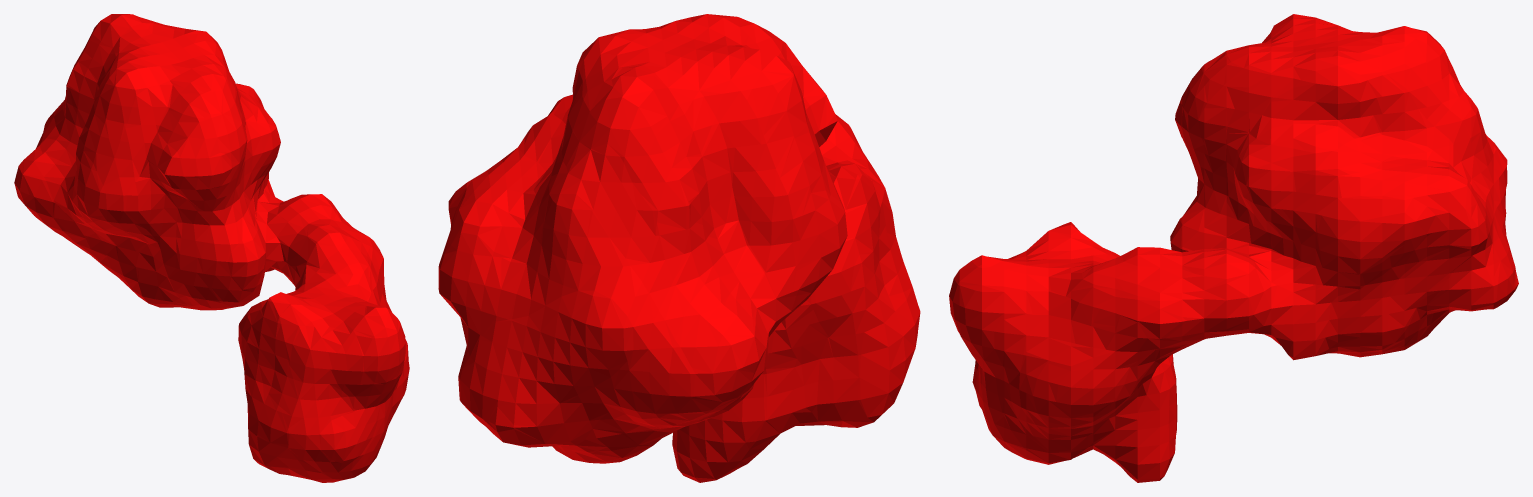
Rendered from kdgR_coarse.dae.
The picture shows the model from 3 angles, left to right: view 1: azimuth 30°, elevation 25°; view 2: azimuth 150°, elevation 25°; view 3: azimuth 270°, elevation 25°; orthographic projection. The views are drawn at different scales.
Parts seen in each view (by area): view 1: kdgR; view 2: kdgR; view 3: kdgR.
Part boxes in pixels (bbox=[...]): kdgR: bbox=[14, 14, 409, 482]; kdgR: bbox=[438, 14, 920, 482]; kdgR: bbox=[949, 14, 1518, 482].
Size of the model in its own units: 42.14 by 61.71 by 76.45.
